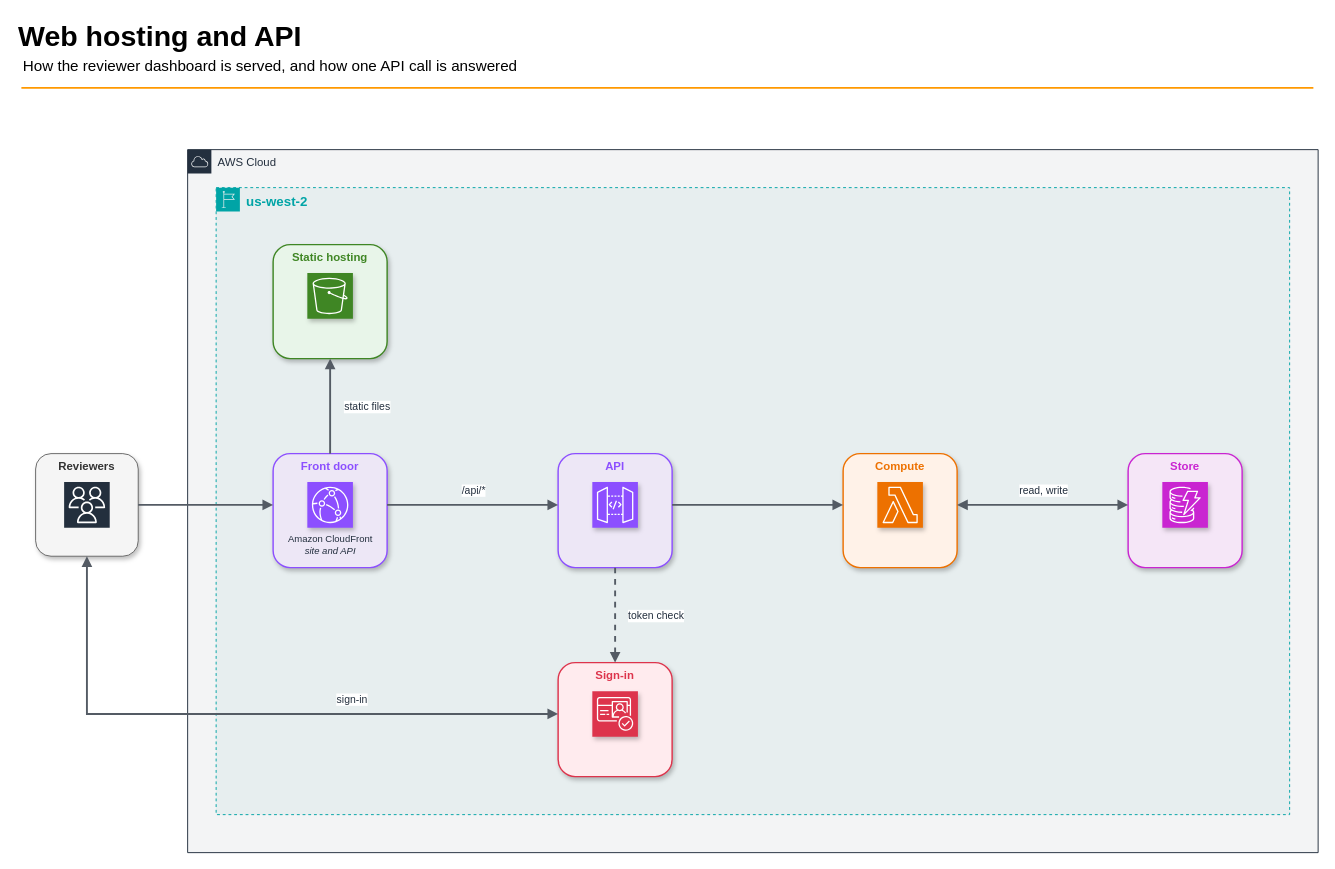
The diagram is 1335 pixels wide and 869 high, and some of its shapes have lost their labels. Each missing label, with the centre of its shape:
"Amazon API Gateway HTTP API" belongs at point 616,505.
"Amazon Cognito reviewer pool" belongs at point 616,714.
"Amazon DynamoDB shared table" belongs at point 1186,505.
"Amazon S3 React build" belongs at point 331,296.
"AWS Lambda route handlers" belongs at point 901,505.
